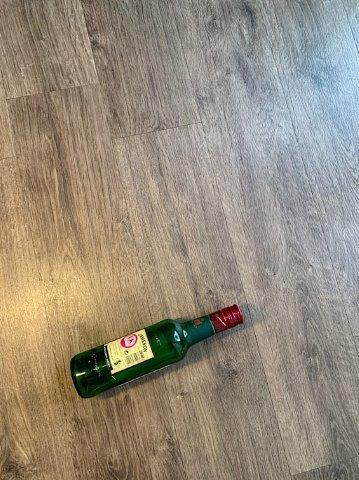botolkaca: (72, 305, 244, 396)
